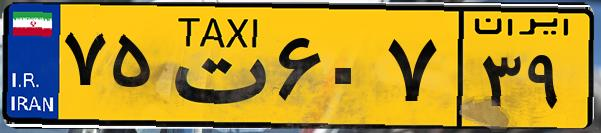0: (330, 28, 385, 110)
3: (475, 38, 525, 113)
5: (110, 28, 158, 98)
6: (270, 28, 330, 110)
7: (385, 28, 445, 110), (57, 26, 110, 100)
9: (525, 38, 570, 115)
ت: (158, 12, 270, 120)
